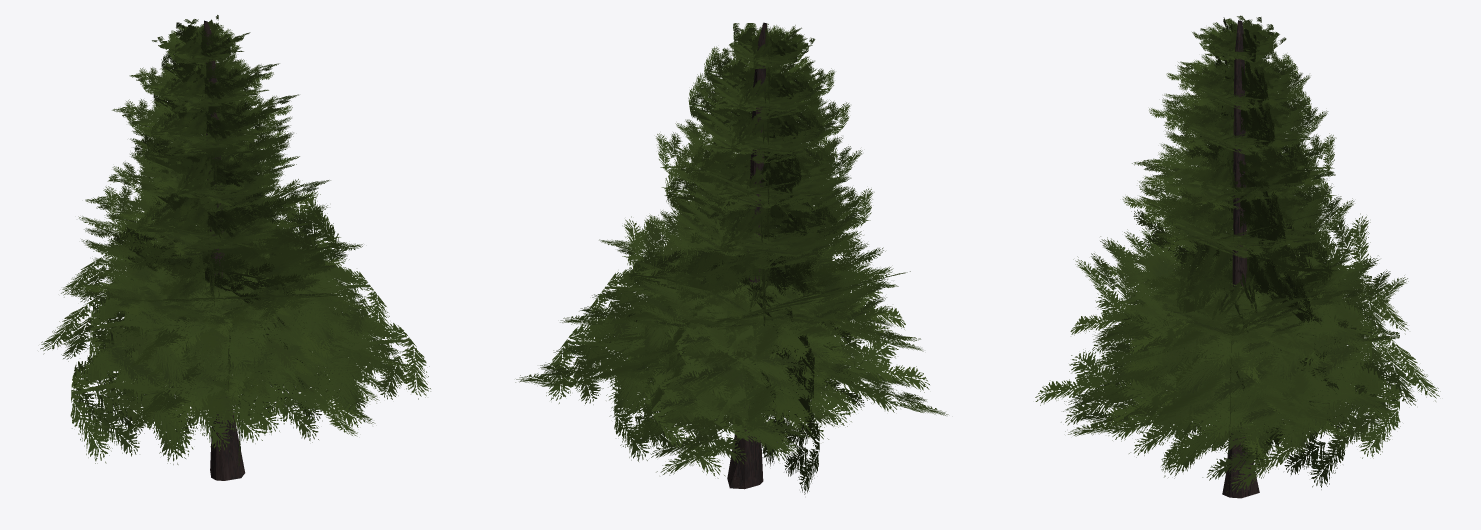
File: tree1.glb
3 renders of one model, left to right at view 1: azimuth 30°, elevation 25°; view 2: azimuth 150°, elevation 25°; view 3: azimuth 270°, elevation 25°, orthographic.
Visible parts, largest first — view 1: Pine Tree 2; view 2: Pine Tree 2; view 3: Pine Tree 2.
Part boxes in pixels (x1=…): Pine Tree 2: x1=40, y1=15, x2=430, y2=480; Pine Tree 2: x1=515, y1=22, x2=948, y2=494; Pine Tree 2: x1=1035, y1=15, x2=1440, y2=498.
Bounding box in the file's own units: 11.85 × 13.06 × 11.92.
2 materials, 2 textured.
